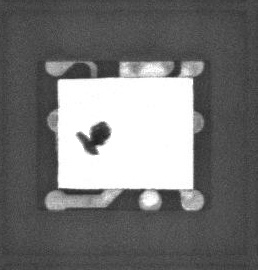DIE_INK: (72, 126, 106, 162)
